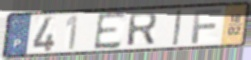1: (64, 14, 79, 52)
4: (31, 15, 57, 53)
E: (92, 10, 128, 52)
F: (190, 8, 224, 45)
I: (172, 9, 184, 47)
R: (125, 12, 159, 48)
